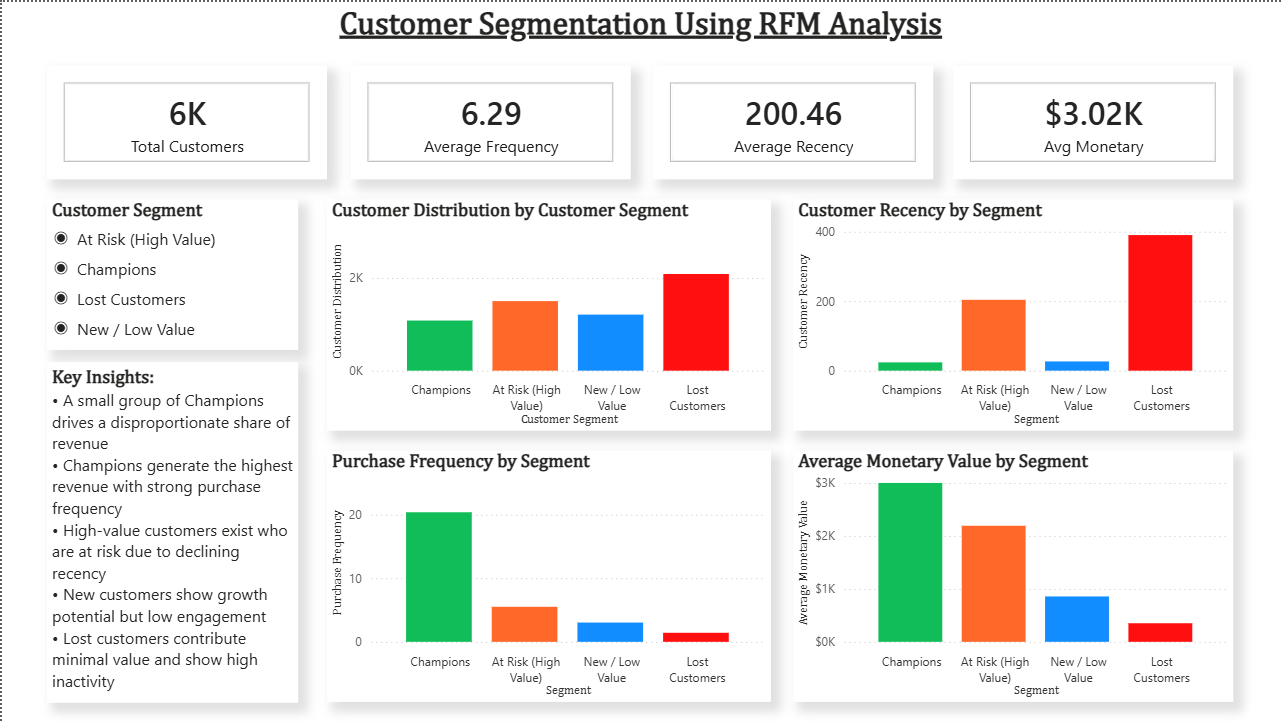

The page's visual inventory and layout, read from the dashboard file:
{"tool":"powerbi","page":{"name":"Page 1","canvas":[1280,720],"ordinal":0},"visuals":[{"type":"cardVisual","fields":{"Data":["customer_segmentation_data.Total Customer"]},"box":[44.8,63.7,279.9,113.2],"z":0},{"type":"cardVisual","fields":{"Data":["customer_segmentation_data.Average Frequency"]},"box":[348.3,63.7,279.9,113.2],"z":1},{"type":"cardVisual","fields":{"Data":["customer_segmentation_data.Average Recency"]},"box":[651.8,63.7,279.9,113.2],"z":2},{"type":"cardVisual","fields":{"Data":["customer_segmentation_data.Average Monetry"]},"box":[951.6,63.7,279.9,113.2],"z":3},{"type":"columnChart","fields":{"Category":["SegmentTable.Segment"],"Y":["customer_segmentation_data.Total Customer"]},"box":[324.7,197.8,444.1,231.4],"z":4},{"type":"columnChart","fields":{"Y":["customer_segmentation_data.Average Monetry"],"Category":["SegmentTable.Customer Segment"]},"box":[791.2,449.1,440.4,251.3],"z":5},{"type":"columnChart","fields":{"Y":["customer_segmentation_data.Average Frequency"],"Category":["SegmentTable.Customer Segment"]},"box":[324.7,449.1,444.1,251.3],"z":6},{"type":"columnChart","fields":{"Y":["customer_segmentation_data.Average Recency"],"Category":["SegmentTable.Customer Segment"]},"box":[791.2,197.8,440.4,231.4],"z":7},{"type":"listSlicer","fields":{"Values":["customer_segmentation_data.Segment"]},"box":[44.8,197.8,251.3,150.5],"z":8},{"type":"textbox","box":[44.8,359.5,251.3,340.8],"z":9},{"type":"textbox","box":[258.7,0,760.1,54.7],"z":10}]}

Visuals, with their boxes in screenshot pixels (x1, y1, x2, y2), scaled from the page's 1280x720 canvas onto the 1282x722 screenshot:
cardVisual - customer_segmentation_data.Total Customer: 45:64:325:177
cardVisual - customer_segmentation_data.Average Frequency: 349:64:629:177
cardVisual - customer_segmentation_data.Average Recency: 653:64:933:177
cardVisual - customer_segmentation_data.Average Monetry: 953:64:1233:177
columnChart - SegmentTable.Segment x customer_segmentation_data.Total Customer: 325:198:770:430
columnChart - customer_segmentation_data.Average Monetry x SegmentTable.Customer Segment: 792:450:1234:702
columnChart - customer_segmentation_data.Average Frequency x SegmentTable.Customer Segment: 325:450:770:702
columnChart - customer_segmentation_data.Average Recency x SegmentTable.Customer Segment: 792:198:1234:430
listSlicer - customer_segmentation_data.Segment: 45:198:297:349
textbox: 45:360:297:702
textbox: 259:0:1020:55
